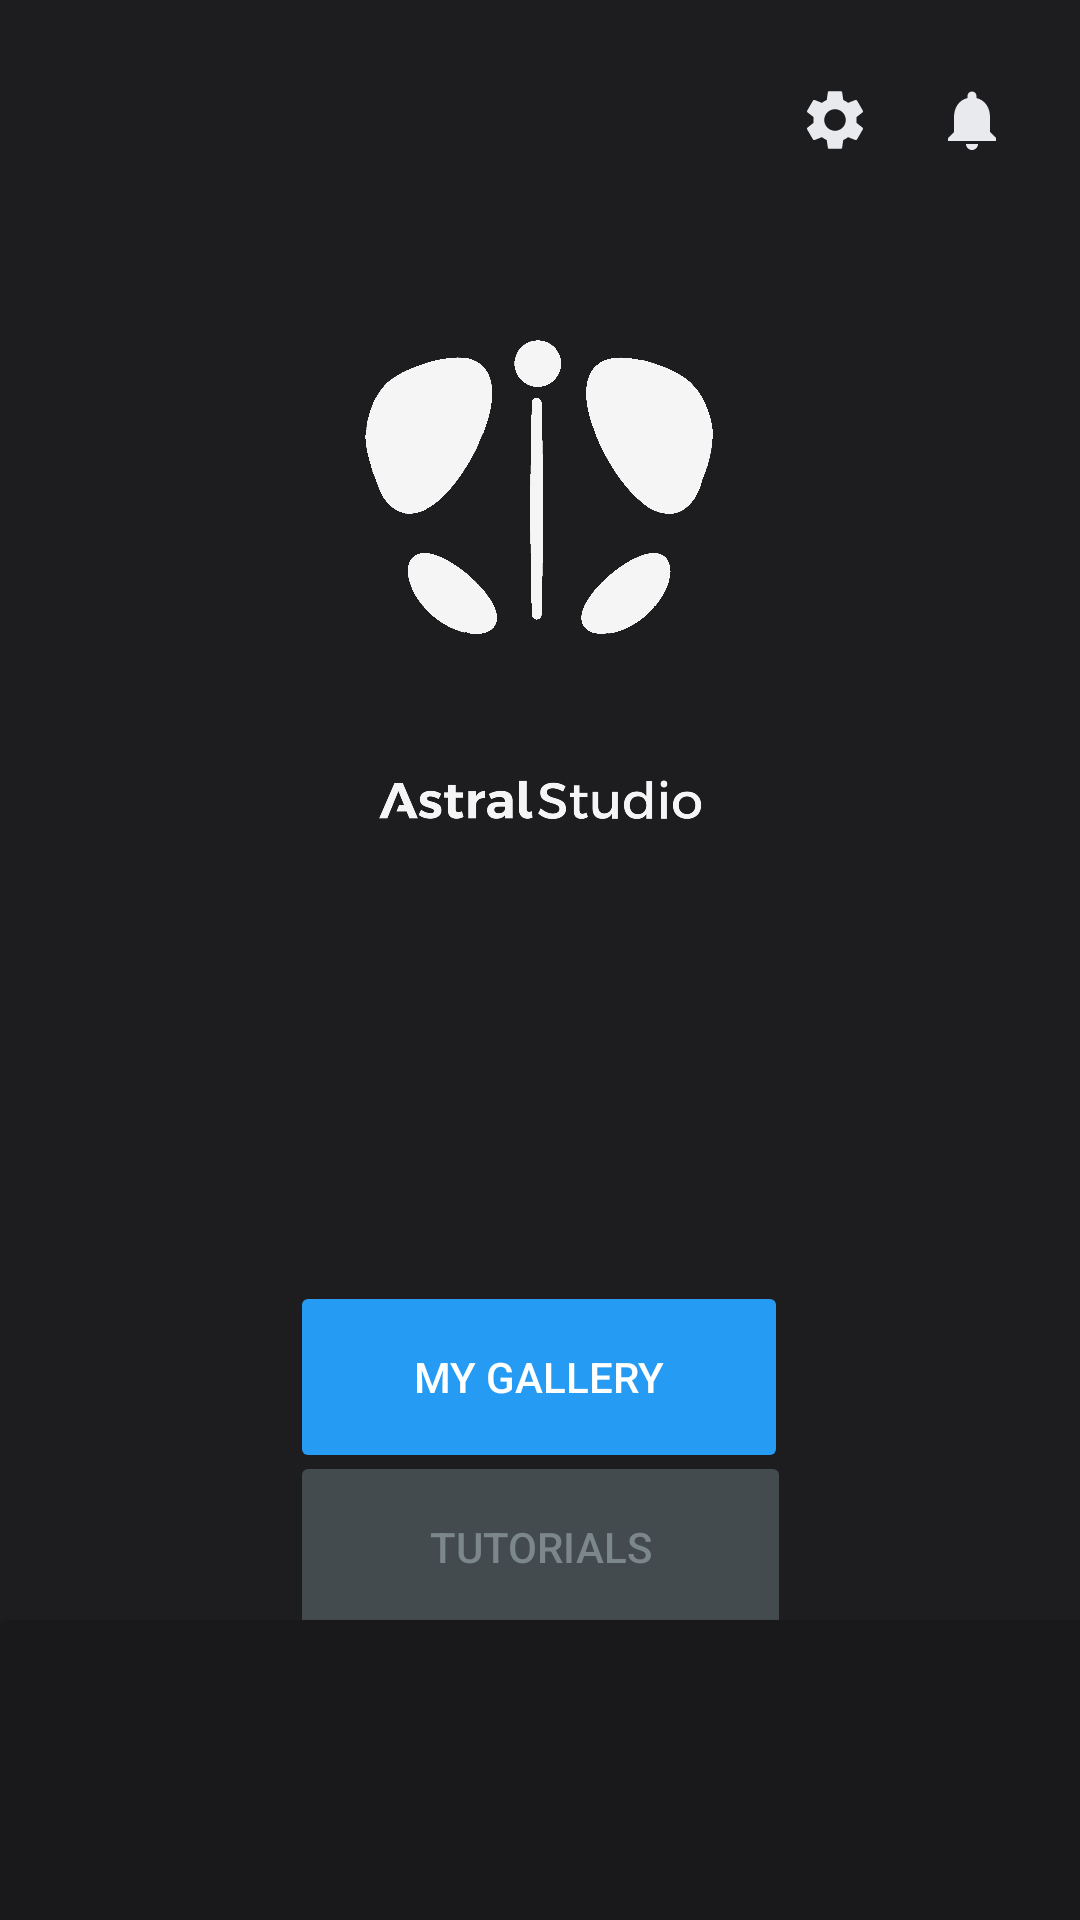

Named icons in this screenshot (1080x1920) and their centers, point (x, y):
notifications: point (972, 120)
settings: point (835, 120)
